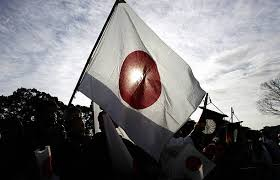Japanese Flag: (73, 1, 207, 161), (171, 144, 217, 180)
